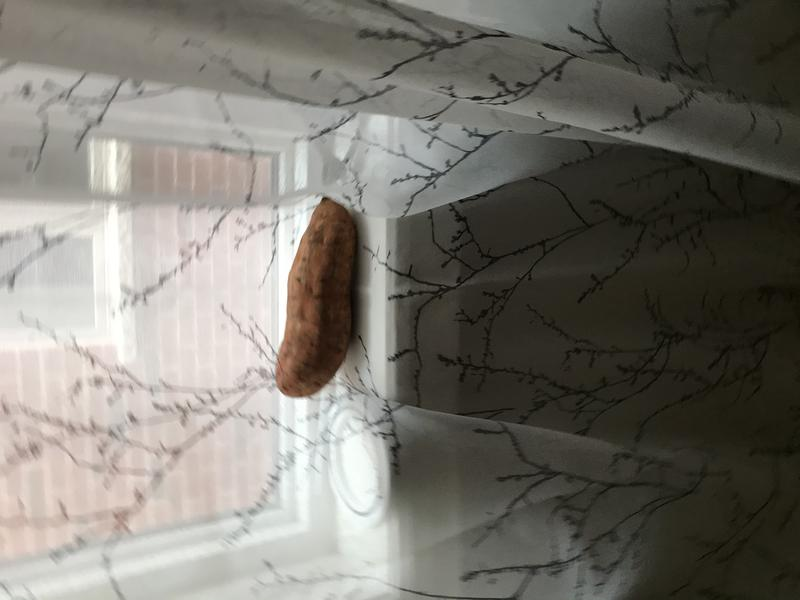sweet_potato: (271, 187, 366, 405)
